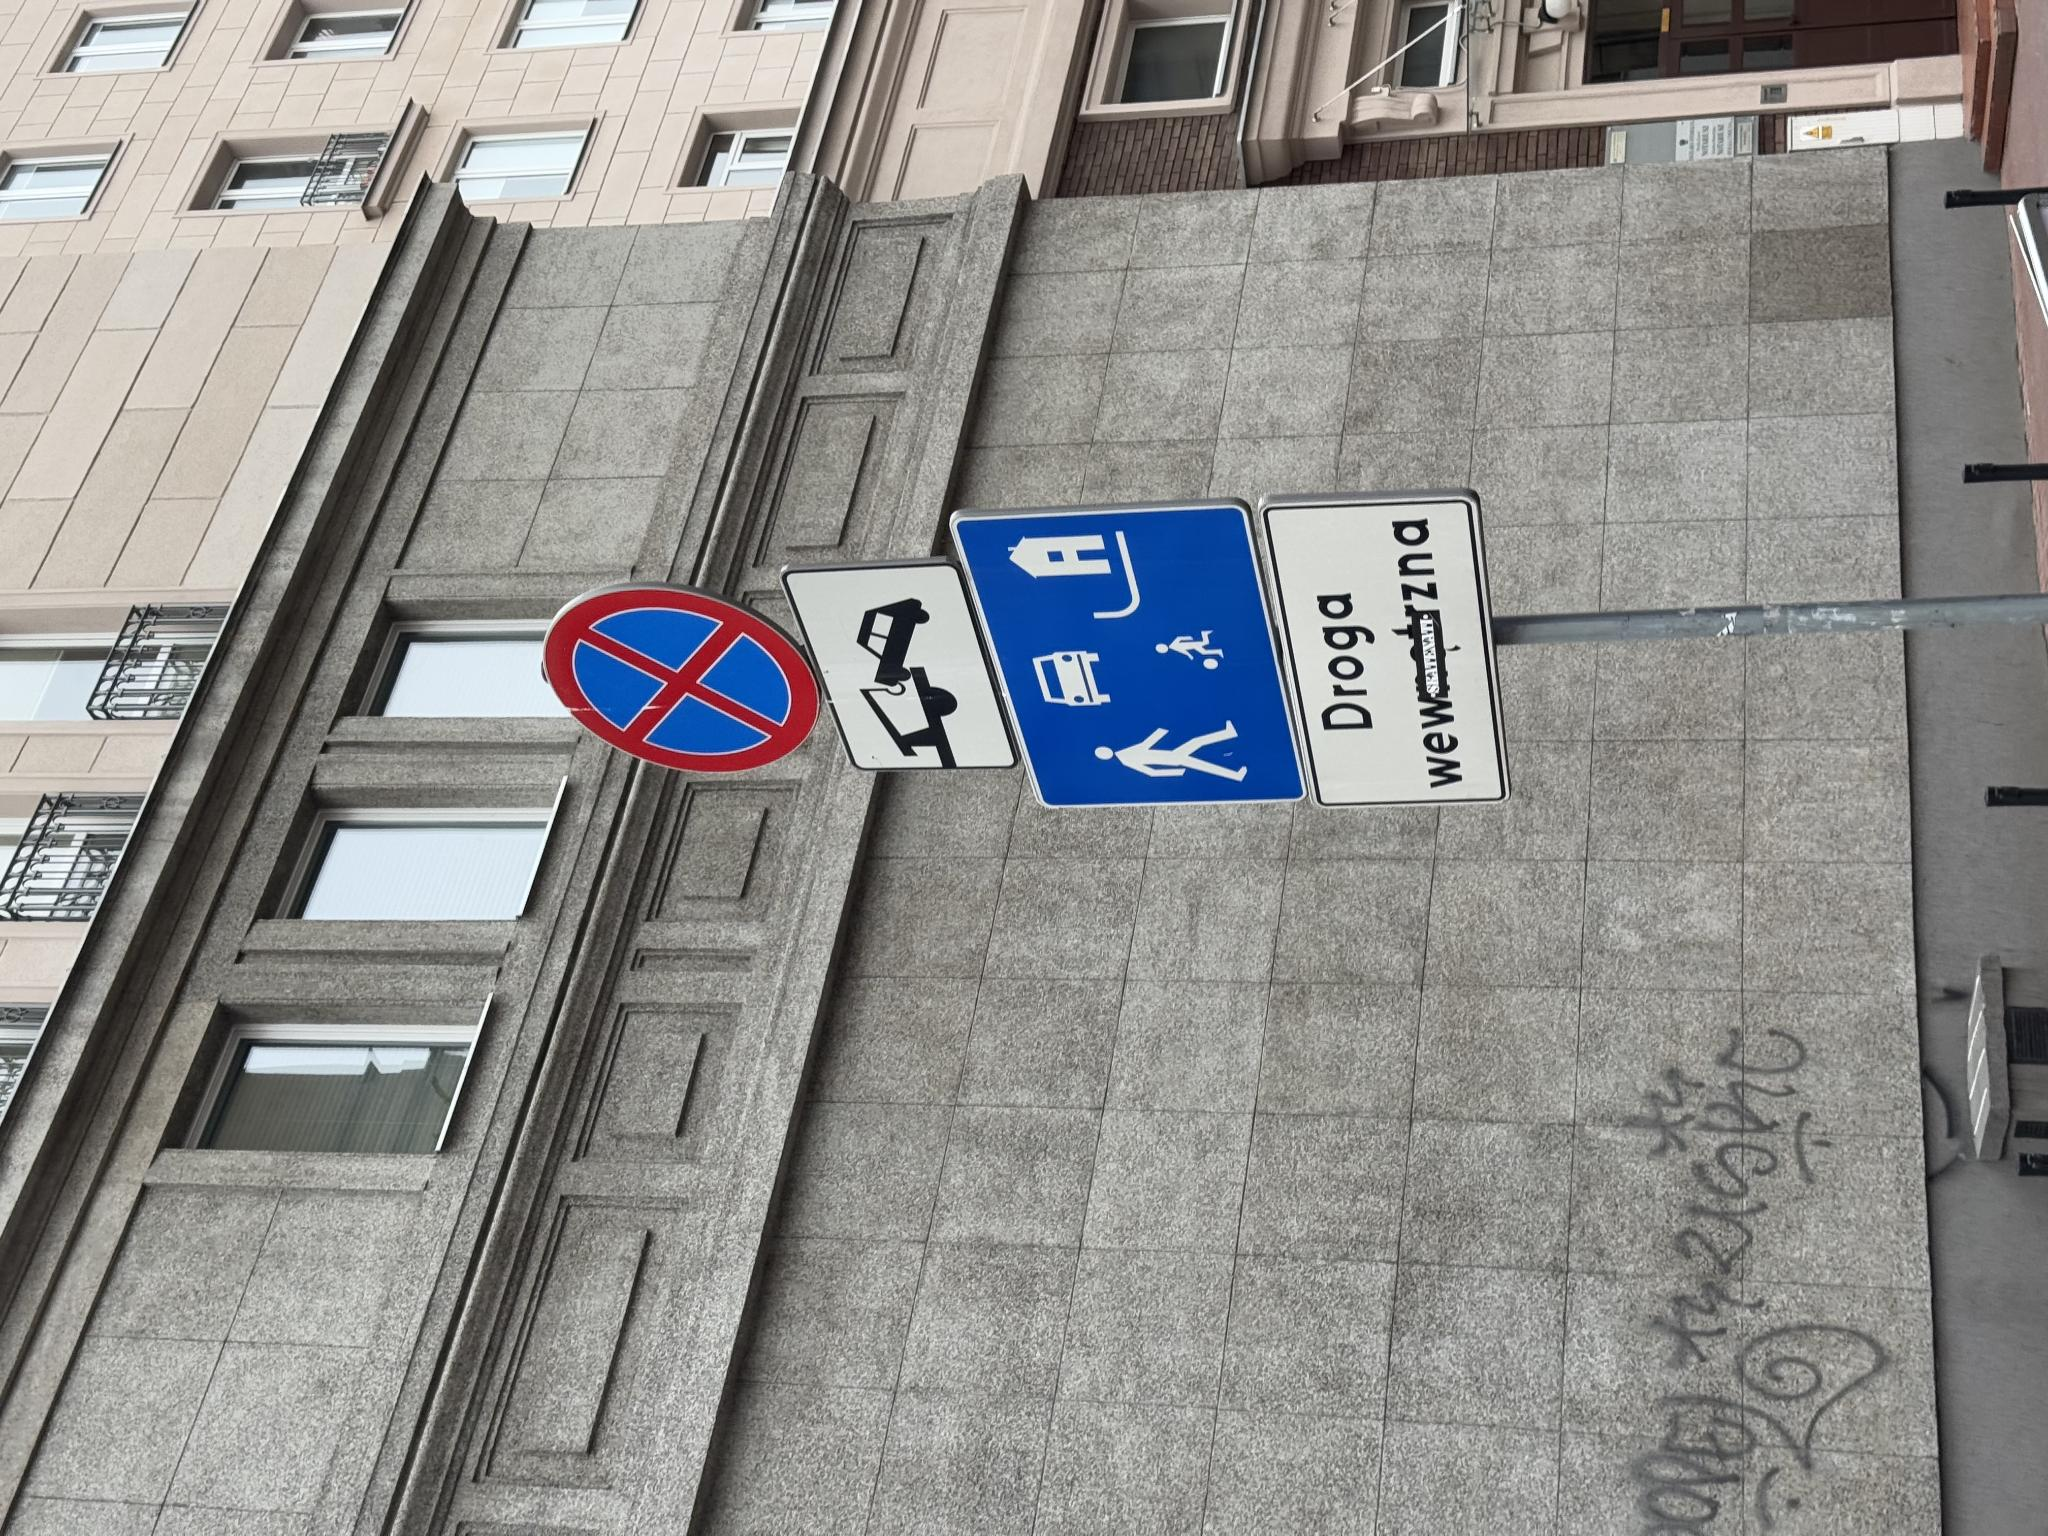information: (727, 950, 1035, 1309), (719, 1260, 1053, 1510)
other: (763, 783, 982, 1015)
prohibitory: (760, 536, 950, 821)
